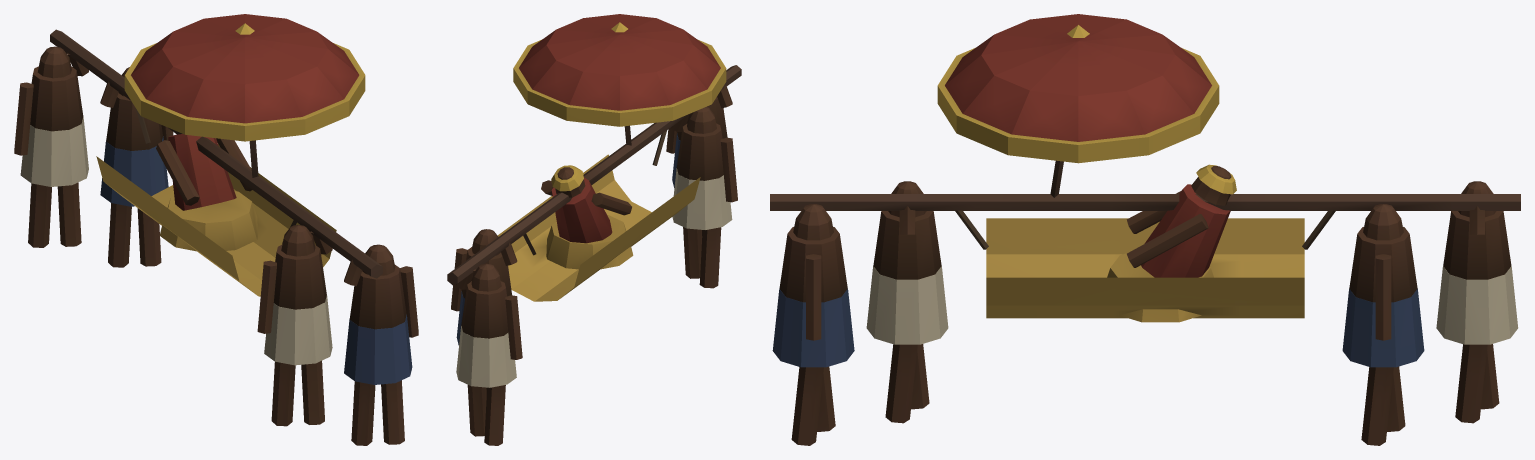
Rendered from litter.glb.
3 renders of one model, left to right at view 1: azimuth 30°, elevation 25°; view 2: azimuth 150°, elevation 25°; view 3: azimuth 270°, elevation 25°, orthographic. The views are drawn at different scales.
Parts seen in each view (by area): view 1: base; view 2: base; view 3: base.
Boxes of the visible parts, left/top/right/bottom form: base: left=14, top=14, right=418, bottom=445; base: left=447, top=14, right=741, bottom=445; base: left=770, top=14, right=1520, bottom=445.
Size of the model in its own units: 1.68 by 2.63 by 4.48.
